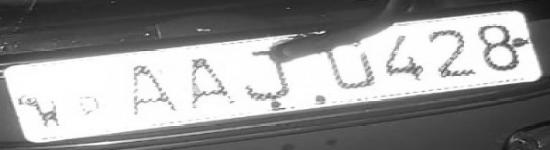0: (320, 33, 377, 93)
2: (427, 24, 476, 78)
4: (378, 30, 429, 85)
8: (478, 22, 524, 76)
A: (115, 64, 180, 117), (185, 58, 236, 112)
J: (241, 50, 291, 103)
P: (74, 94, 104, 126)
W: (27, 99, 67, 130)
